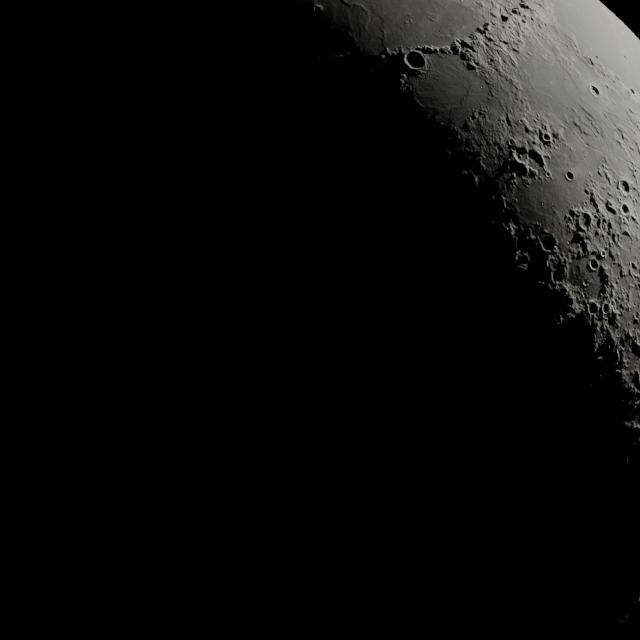crater: (403, 50, 426, 71), (527, 148, 548, 170), (538, 233, 556, 252), (586, 258, 600, 272), (580, 212, 593, 227), (617, 180, 631, 193), (459, 49, 473, 62), (605, 201, 617, 215), (588, 301, 600, 315), (622, 230, 634, 242), (564, 170, 575, 182), (540, 132, 552, 143), (590, 85, 601, 96), (620, 203, 630, 214), (635, 261, 640, 271)
rock: (483, 31, 496, 43), (450, 43, 461, 55), (466, 60, 477, 70), (501, 13, 510, 22), (404, 18, 412, 26), (629, 88, 635, 95)
